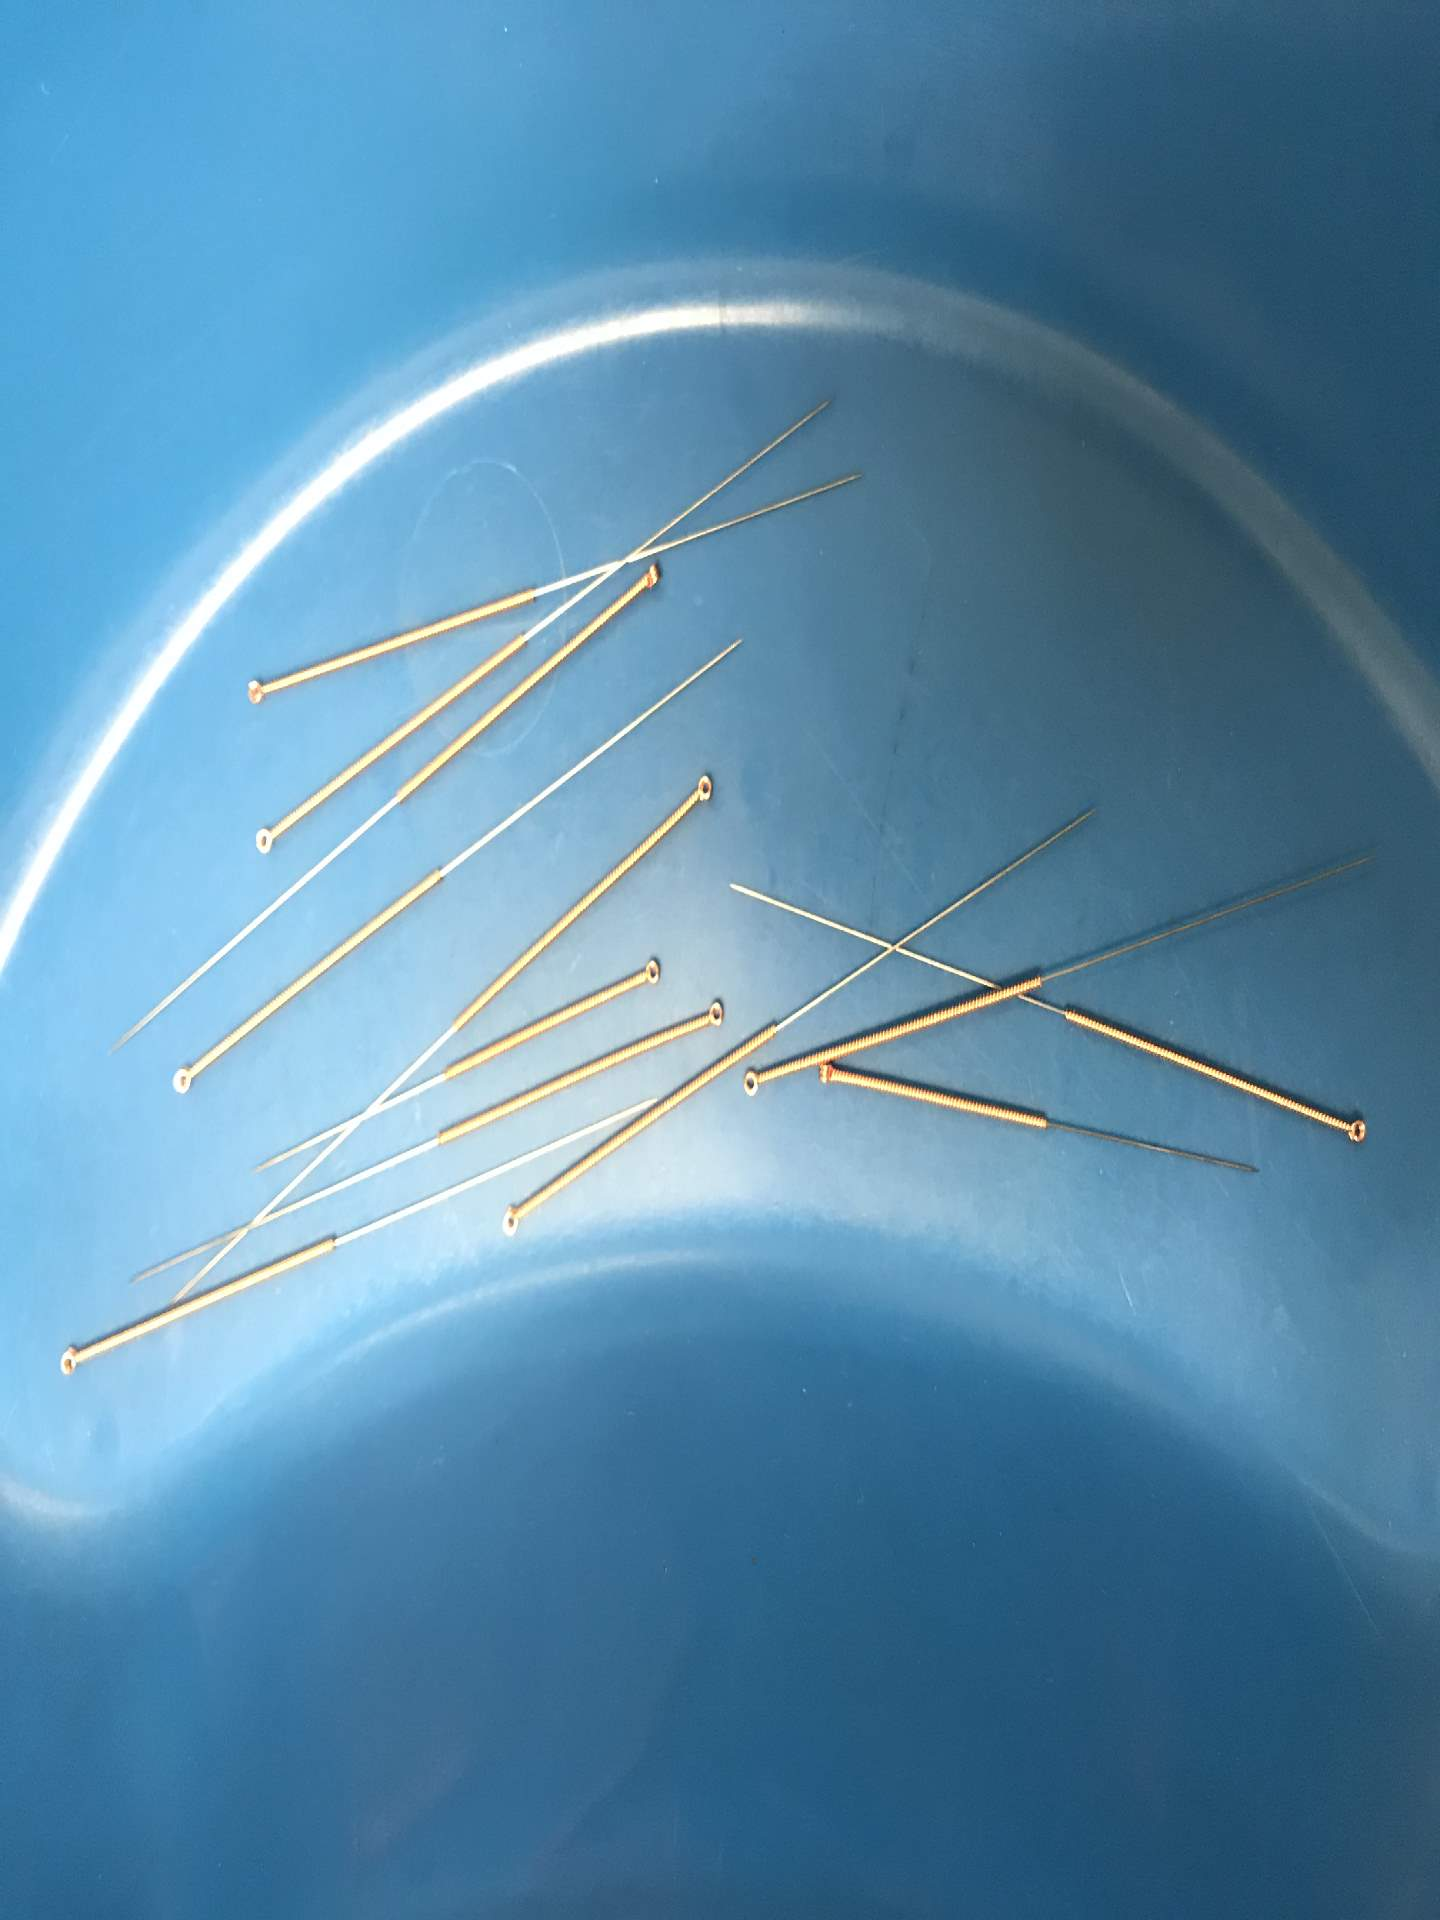needle: (1333, 1107, 1376, 1155), (231, 671, 275, 715), (245, 816, 287, 862), (490, 1197, 529, 1246), (163, 1057, 203, 1104), (48, 1338, 88, 1385), (681, 770, 722, 813), (631, 556, 669, 602), (632, 949, 669, 993), (737, 1061, 771, 1107), (696, 993, 732, 1036), (811, 1060, 843, 1095)
